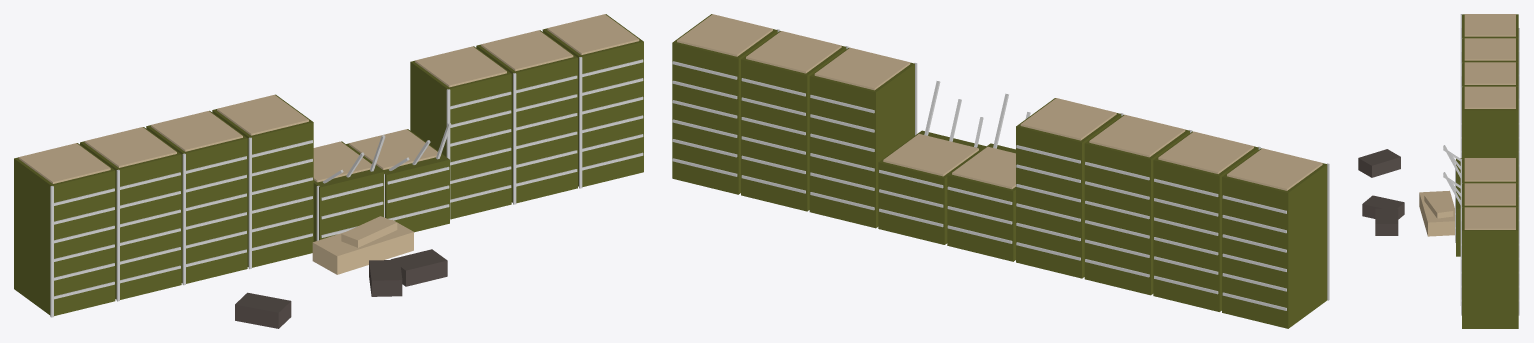
Rendered from SM_MuroHesco_v1_Geotextil_e1_Danado_LOD0.fbx.
The picture shows the model from 3 angles, left to right: view 1: azimuth 30°, elevation 25°; view 2: azimuth 150°, elevation 25°; view 3: azimuth 270°, elevation 25°; orthographic projection. The views are drawn at different scales.
Parts seen in each view (by area): view 1: SM_bloques.muro_hesco_estados_v5_LOD0; view 2: SM_bloques.muro_hesco_estados_v5_LOD0; view 3: SM_bloques.muro_hesco_estados_v5_LOD0.
Boxes of the visible parts, x1,y1,x2,y2 form: SM_bloques.muro_hesco_estados_v5_LOD0: (14, 14, 643, 328); SM_bloques.muro_hesco_estados_v5_LOD0: (672, 14, 1329, 328); SM_bloques.muro_hesco_estados_v5_LOD0: (1358, 14, 1519, 328).
Bounding box in the file's own units: 9.98 × 2.13 × 3.14.
